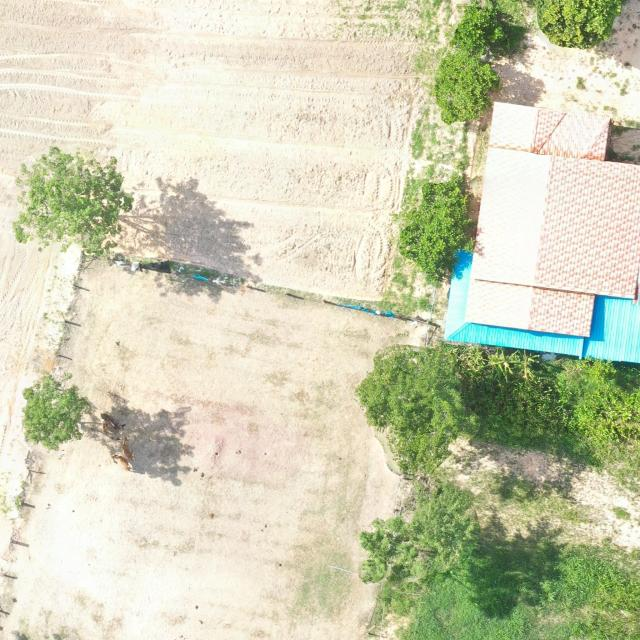Tree: (354, 342, 472, 480), (10, 145, 135, 261), (356, 484, 482, 592), (397, 176, 473, 286), (21, 372, 94, 453), (432, 51, 502, 126), (534, 0, 623, 50), (449, 5, 510, 57)
